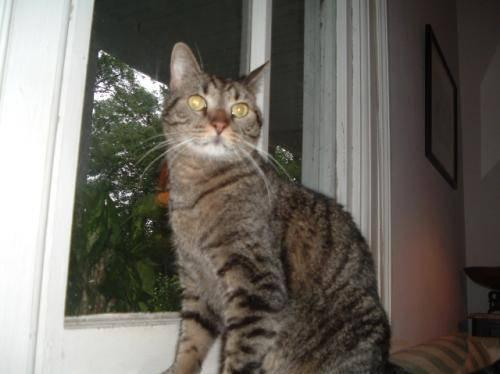cat: (161, 43, 436, 373)
